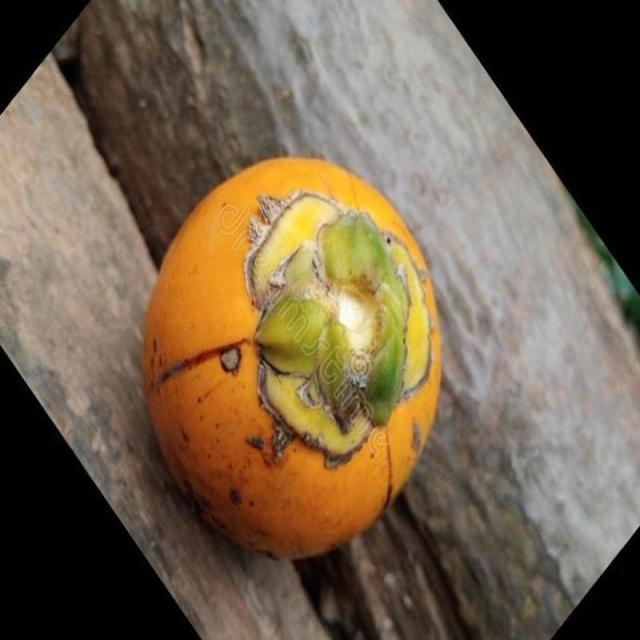good: (142, 160, 443, 562)
